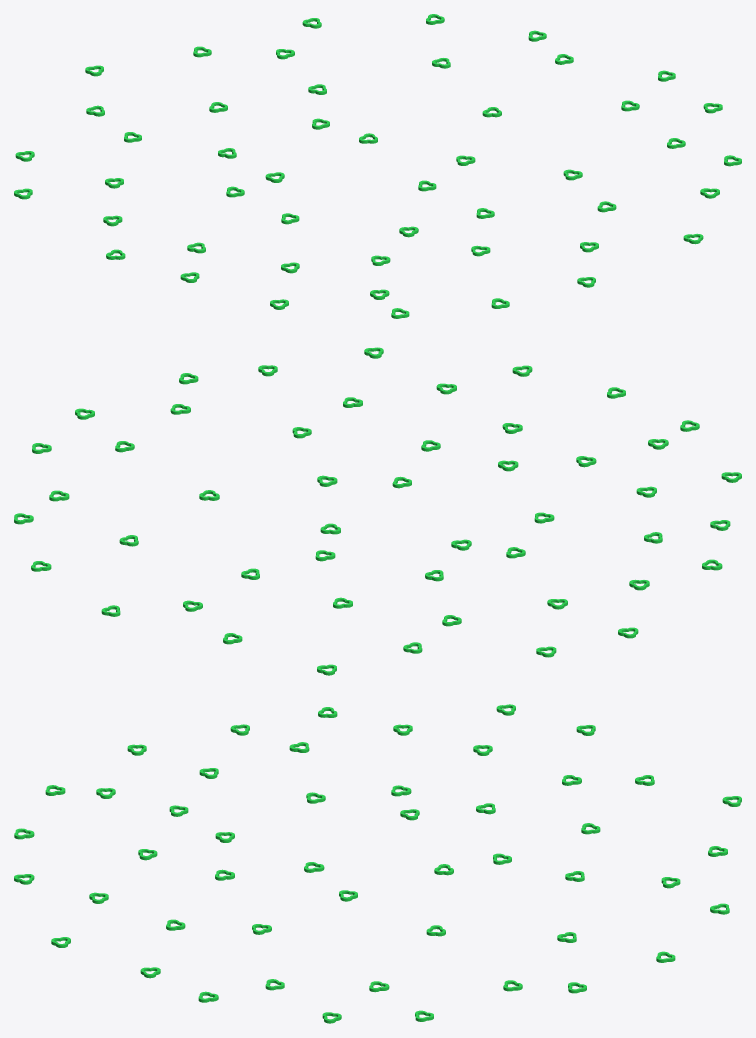
The model's file is chilli.glb.
3 views of the same model, one above another, from view 1: azimuth 30°, elevation 25°; view 2: azimuth 150°, elevation 25°; view 3: azimuth 270°, elevation 25° (orthographic). The views are drawn at different scales.
Visible parts, largest first — view 1: polySurface146; view 2: polySurface146; view 3: polySurface146.
Boxes of the visible parts, x1=… form: polySurface146: x1=14, y1=14, x2=741, y2=318; polySurface146: x1=14, y1=347, x2=741, y2=675; polySurface146: x1=14, y1=704, x2=741, y2=1023.
Size of the model in its own units: 0.346 by 0.00148 by 0.3365.
